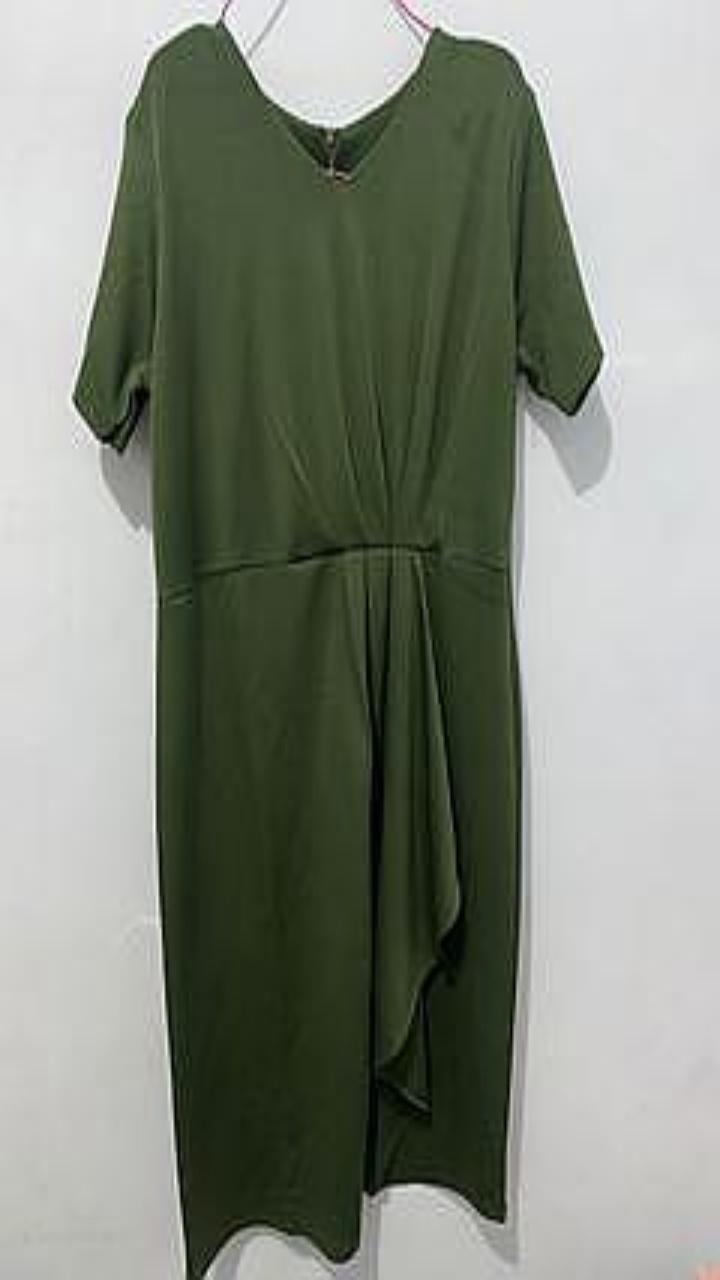Dresses: (73, 22, 601, 1279)
